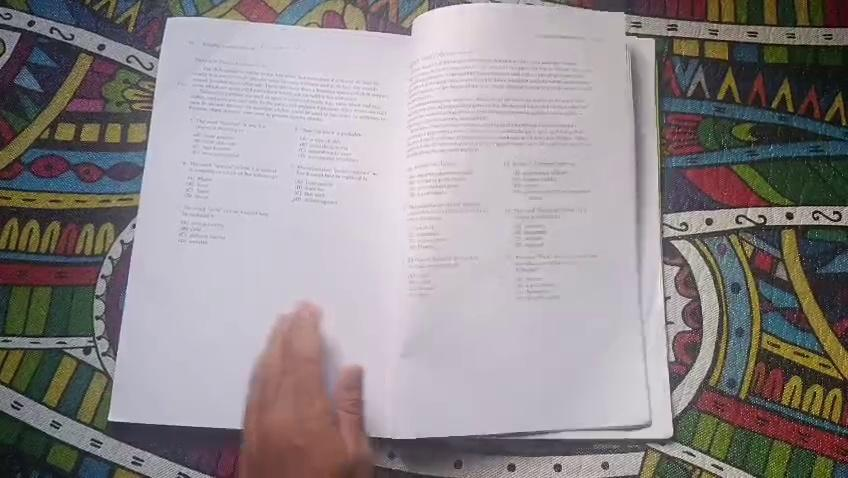Kertas: (165, 34, 619, 301), (397, 34, 654, 440)
